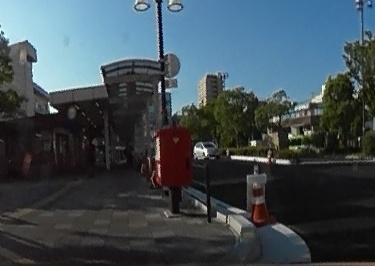person: (81, 136, 97, 178)
